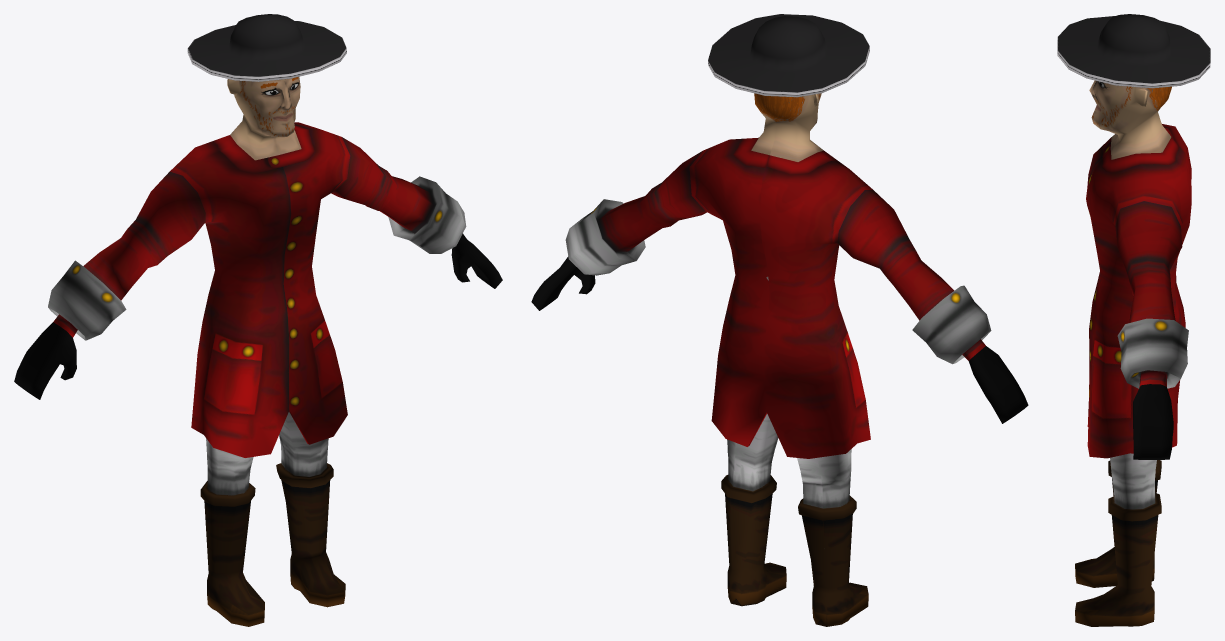
Rendered from Gov_Soldier_Run_Anim.fbx.
3 views of the same model, side by side, from view 1: azimuth 30°, elevation 25°; view 2: azimuth 150°, elevation 25°; view 3: azimuth 270°, elevation 25° (orthographic).
Visible parts, largest first — view 1: node_id14; view 2: node_id14; view 3: node_id14.
Boxes of the visible parts, x1,y1,x2,y2 form: node_id14: (14,14,502,626); node_id14: (531,14,1028,626); node_id14: (1057,14,1210,626).
Size of the model in its own units: 0.4058 by 0.4752 by 0.1136.
Materials: 1 (1 with a texture image).
